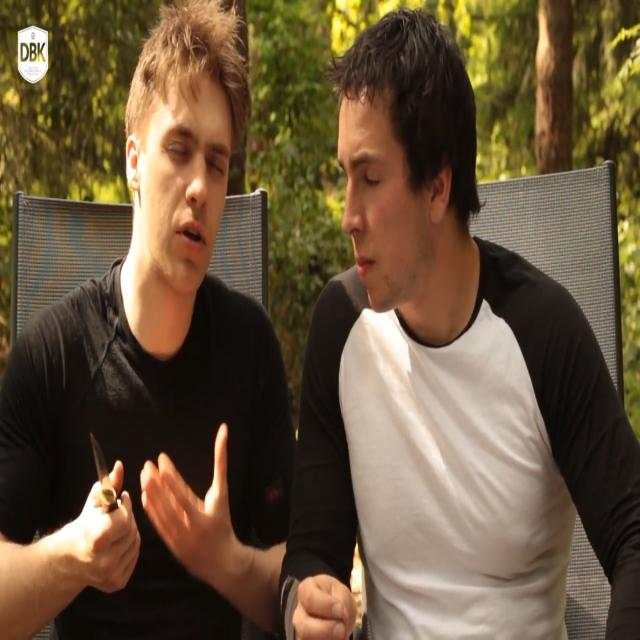knife: (89, 429, 121, 512)
